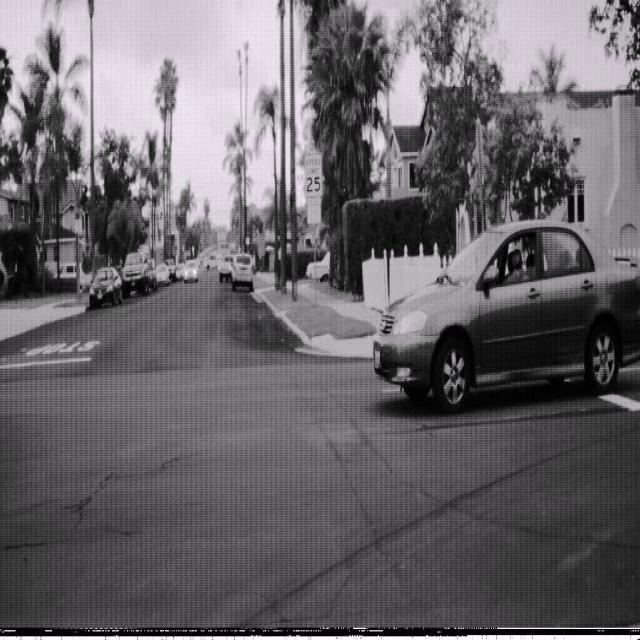speedLimit25: (303, 151, 323, 197)
